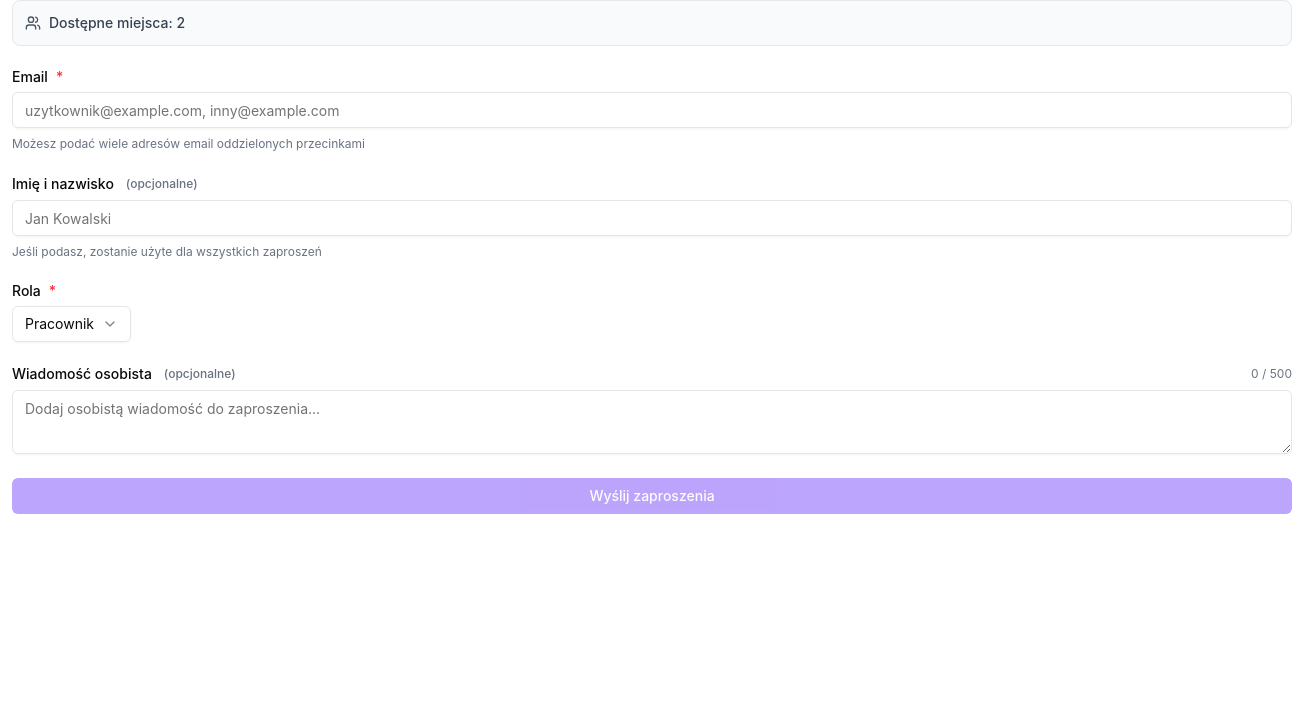
Test: InvitationForm › Seat Validation › should show warning when emails exceed available seats
Step 1. Type "user1@example.com, user2@example.com, user3@example.com" into the field labelled "Email *" → (652, 110), box [12,92,1292,128]
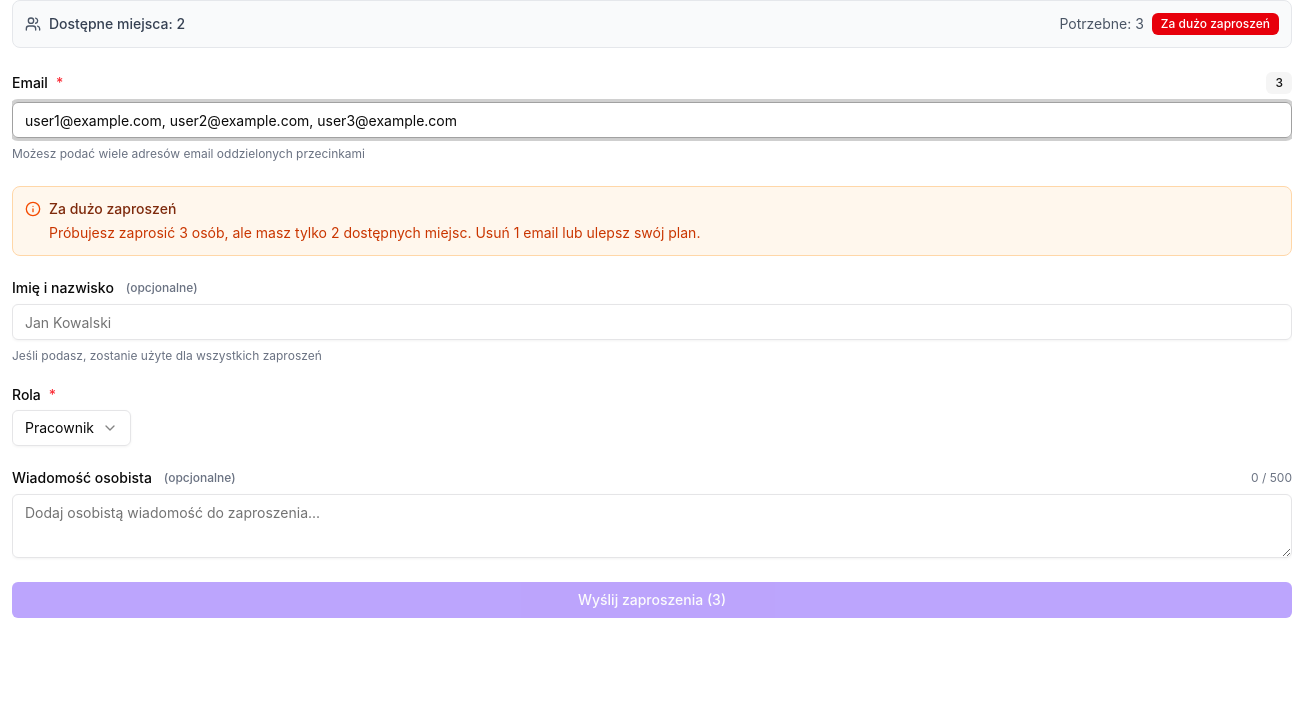
Expected: the text "Za dużo zaproszeń" in the row of "Potrzebne:" is shown, [1161,16,1270,31]
